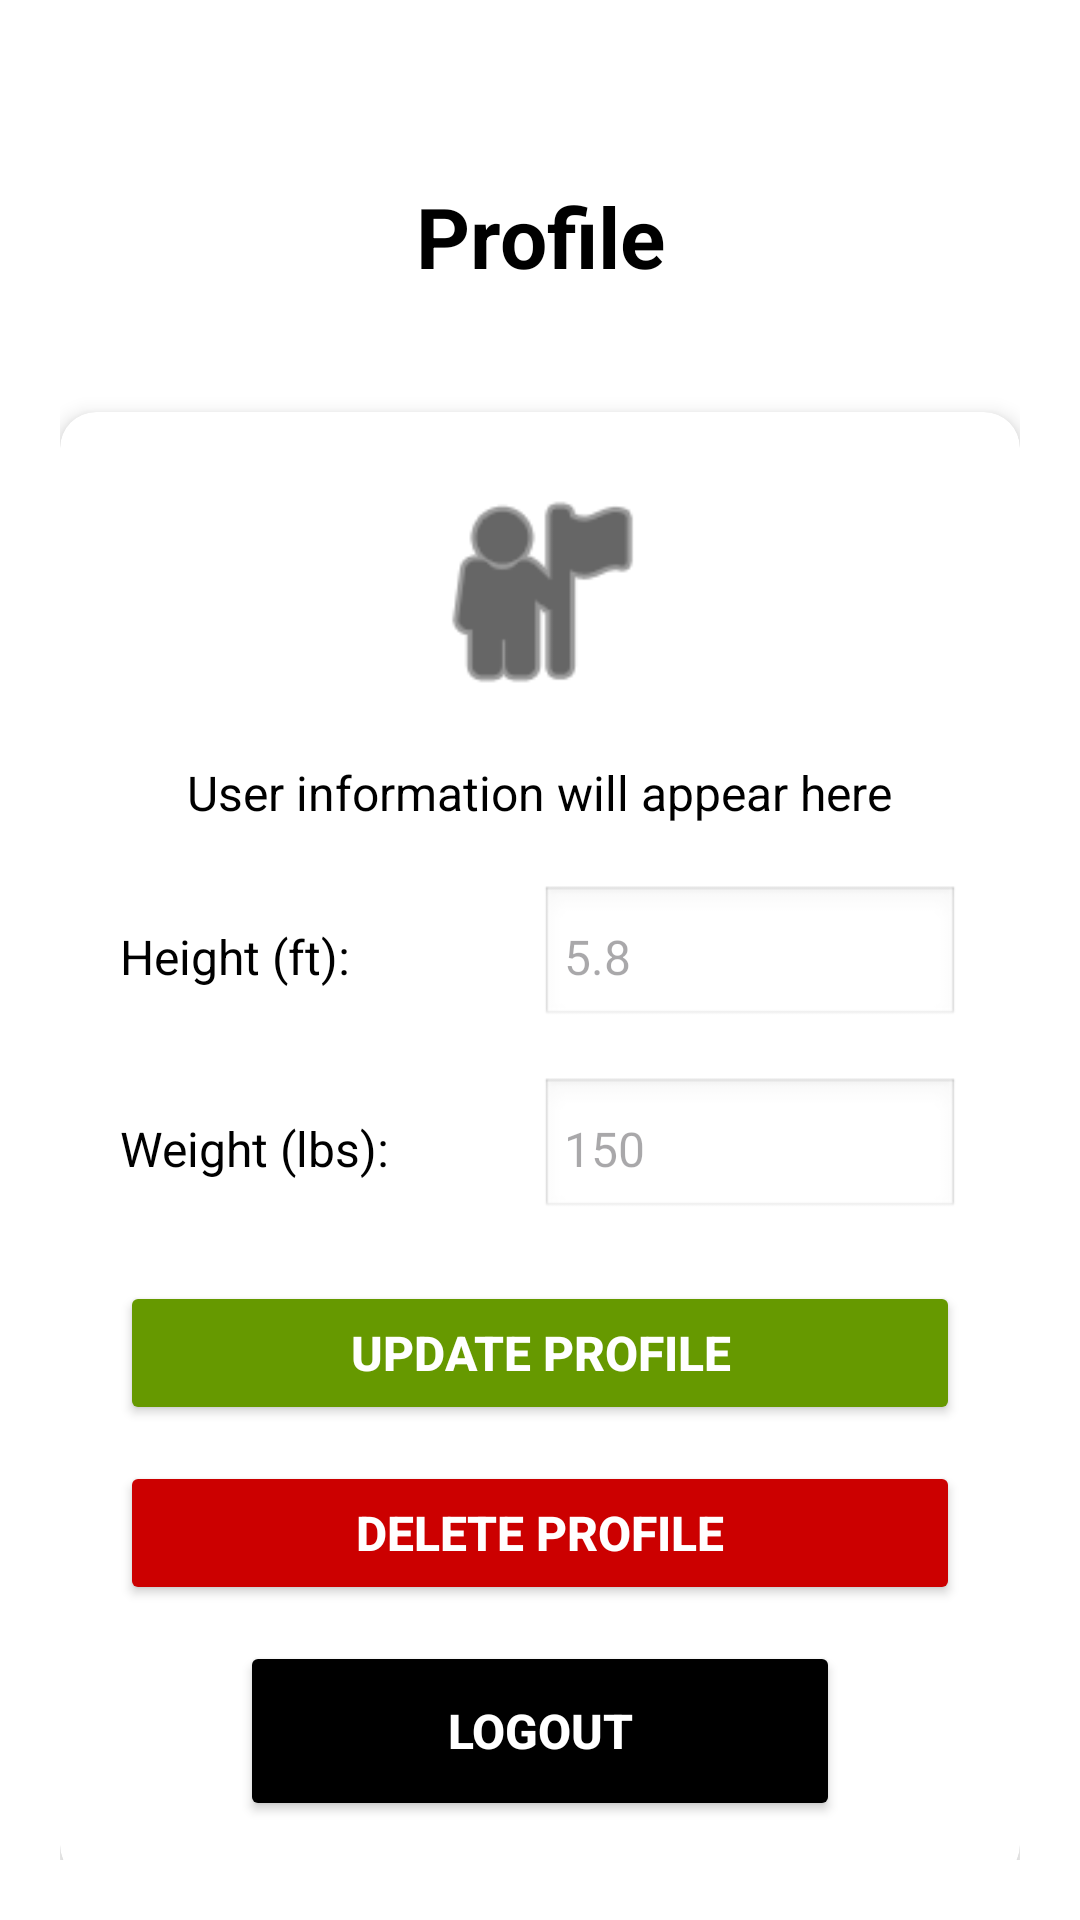

Where to tap for icons on this 1080px×1920px app screen, as (x,y):
myplaces: (542,592)
